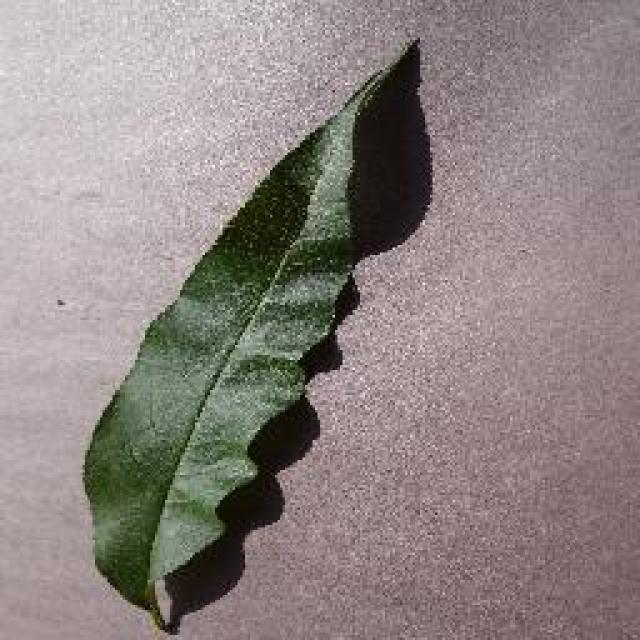Pea_healthy: (73, 88, 375, 486)
